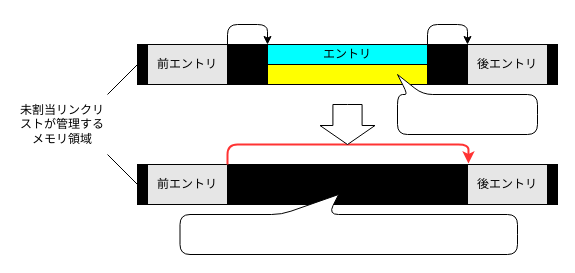
Some shapes in this 575 by 273 pixel diagram are drawn without their labels. The shapes that lost their labels are listed below. From the top down, each one's centre as x and y in pixels, then its label:
the point at 347,74: 指定メモリ領域
the point at 467,104: エントリのメモリ領域と指定メモリ領域が等しい
the point at 348,224: エントリを未割当リンクリストから削除して、未使用リンクリストに追加し、割当済リンクリストに追加（メモリ領域追加）
